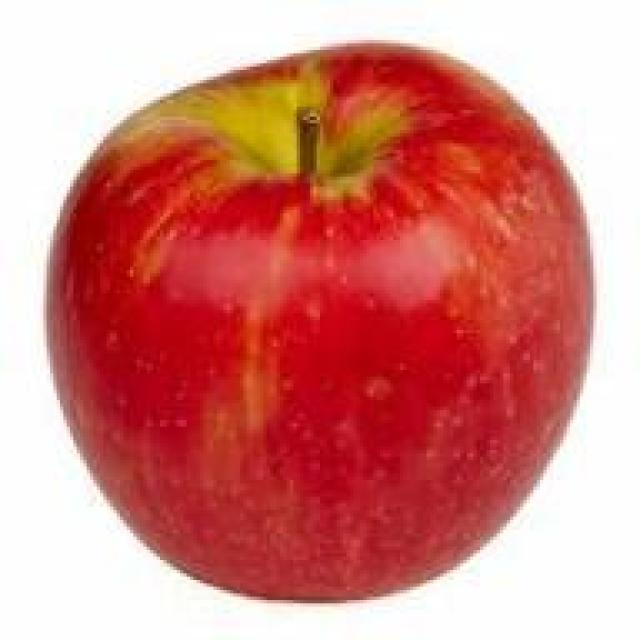apple: (40, 54, 587, 604)
